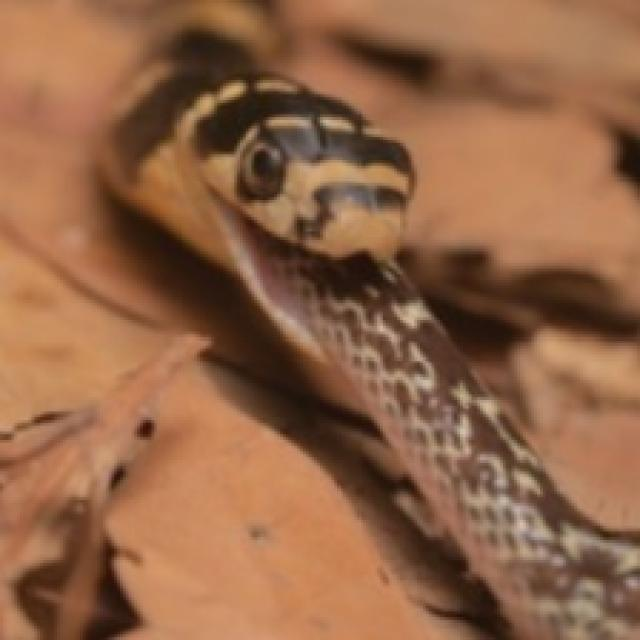king cobra: (103, 3, 637, 637)
